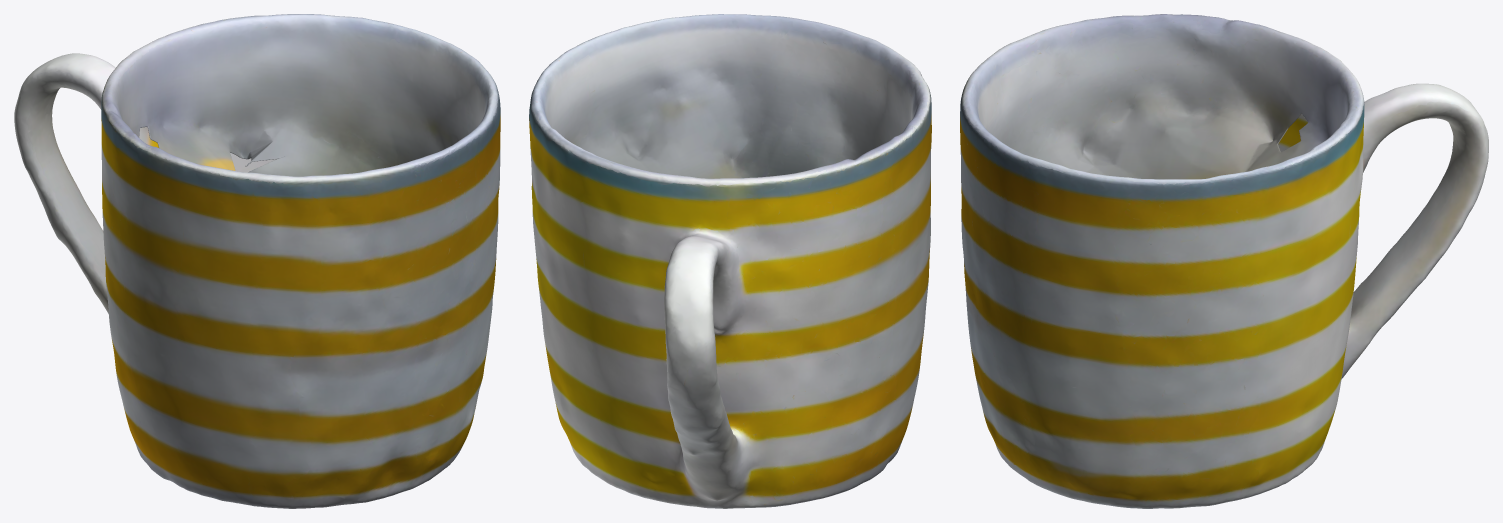
File: mug.glb
3 views of the same model, side by side, from view 1: azimuth 30°, elevation 25°; view 2: azimuth 150°, elevation 25°; view 3: azimuth 270°, elevation 25° (orthographic).
Visible parts, largest first — view 1: world; view 2: world; view 3: world.
Part boxes in pixels (x1,y1,x2,y2): world: (14, 14, 500, 508); world: (529, 14, 931, 508); world: (960, 14, 1488, 508).
Size of the model in its own units: 0.7601 by 0.7299 by 1.
Materials: 1 (1 with a texture image).
